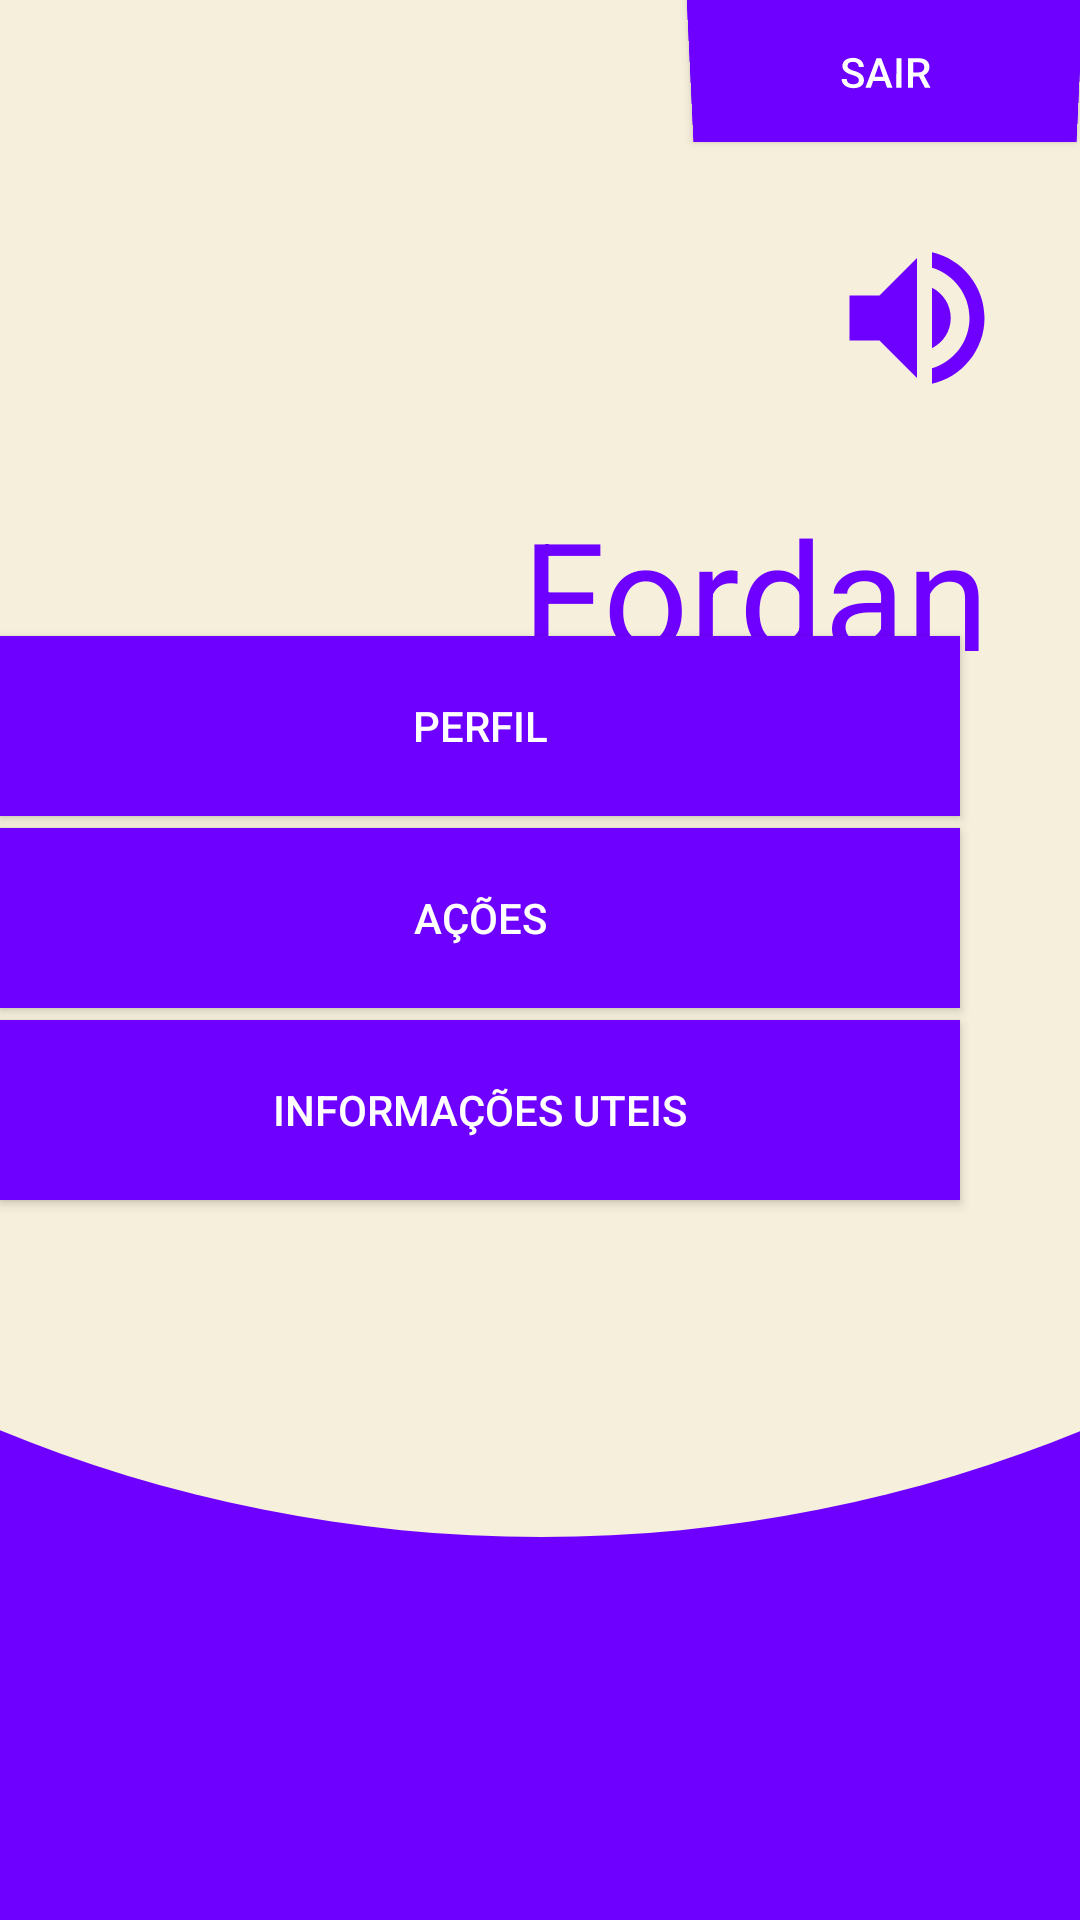

Named icons in this screenshot (1080*1920) and their bounding boxes, (x1, y1, x2, y2):
speak: (849, 252, 985, 384)
